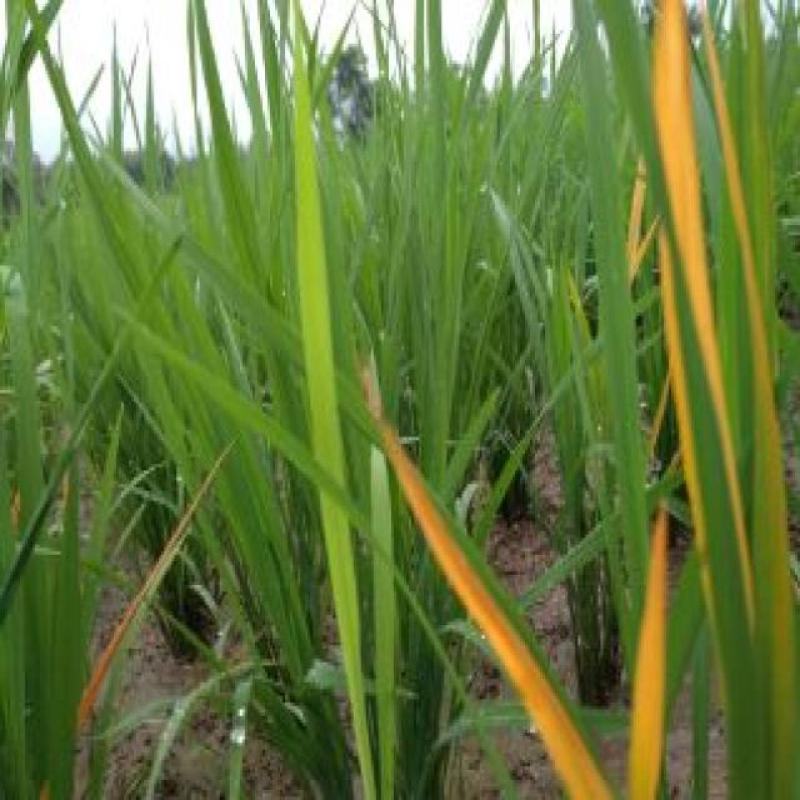Rice Tungro: (632, 15, 778, 540), (601, 488, 680, 788)
